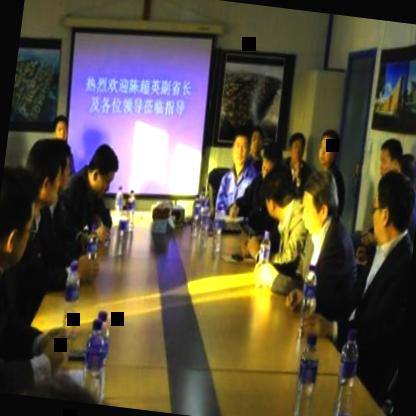head: (363, 163, 416, 252), (24, 134, 74, 218), (0, 159, 43, 248), (298, 172, 344, 245), (256, 158, 302, 226), (82, 138, 122, 204), (373, 132, 406, 180), (312, 126, 343, 176), (226, 124, 256, 172), (256, 138, 284, 184), (48, 112, 76, 148), (286, 130, 309, 167), (248, 124, 266, 155)
